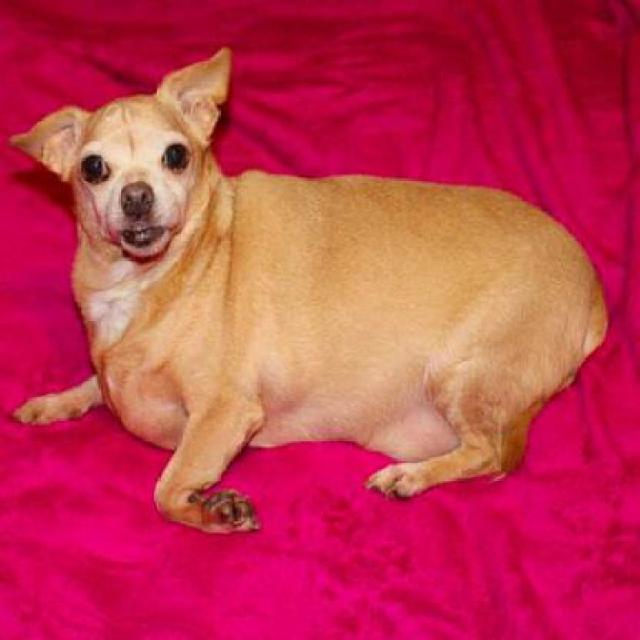Dog: (8, 45, 612, 537)
